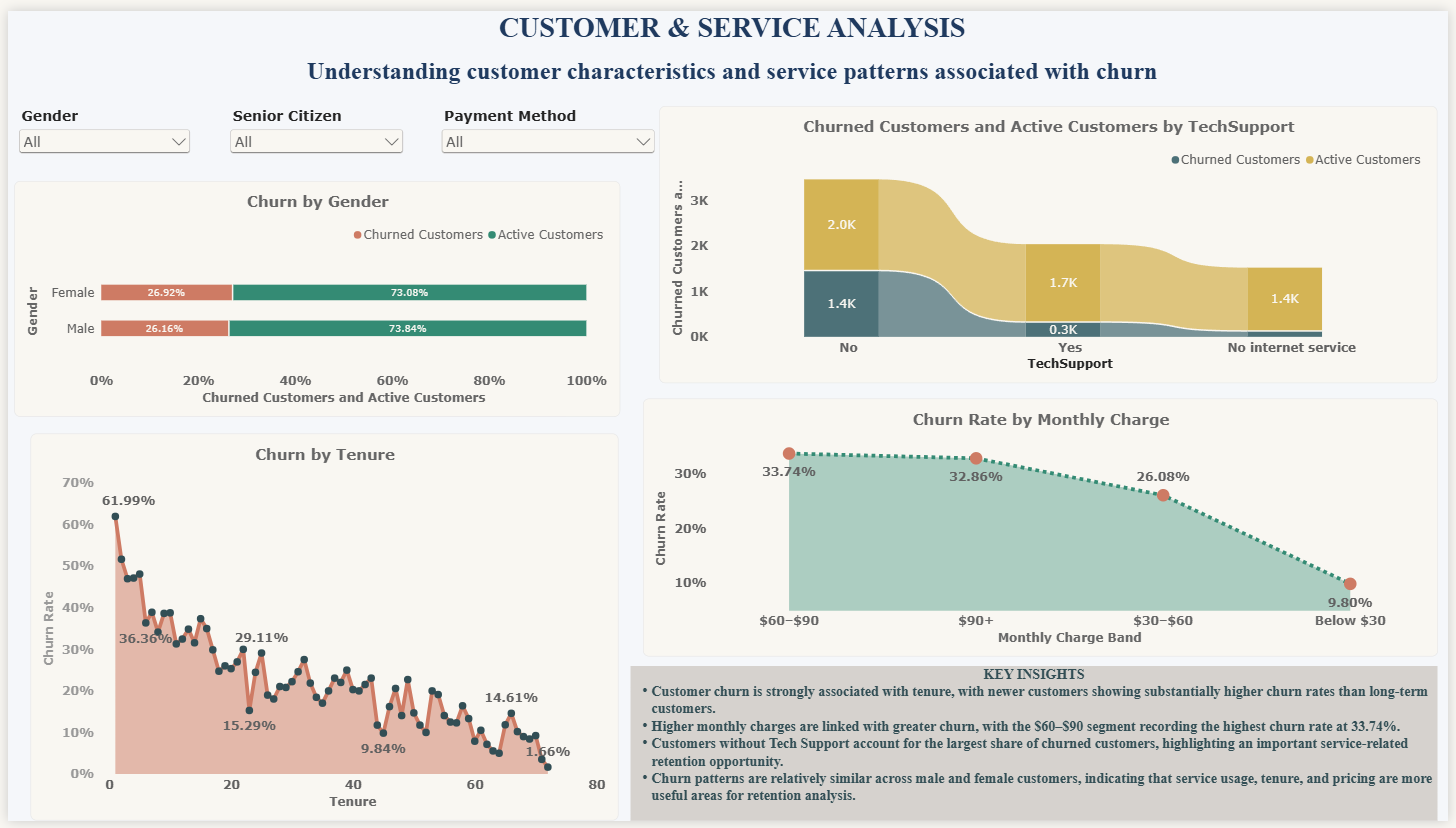

This screenshot's page, from the dashboard's own definition file:
{"tool":"powerbi","page":{"name":"Customer & Service Analysis","canvas":[1920,1080],"ordinal":1},"visuals":[{"type":"textbox","box":[9.3,0,1911.1,113.2],"z":0},{"type":"slicer","fields":{"Values":["Customer_Details.gender"]},"box":[10,128,238,74],"z":1000},{"type":"slicer","fields":{"Values":["Customer_Details.SeniorCitizen"]},"box":[292,128,240,74],"z":2000},{"type":"slicer","fields":{"Values":["Customer_Details.PaymentMethod"]},"box":[574,128,294,74],"z":3000},{"type":"hundredPercentStackedBarChart","title":"Churn by Gender","fields":{"Category":["Customer_Details.gender"],"Y":["Churn_Analysis.Churned Customers","Churn_Analysis.Active Customers"]},"box":[8,226,808,314],"z":4000},{"type":"lineChart","title":"Churn by Tenure","fields":{"Category":["Customer_Details.tenure"],"Y":["Churn_Analysis.Churn Rate"]},"box":[30,564,784,516],"z":5000},{"type":"ribbonChart","fields":{"Category":["Customer_Services.TechSupport"],"Y":["Churn_Analysis.Churned Customers","Churn_Analysis.Active Customers"]},"box":[868.6,127.3,1037.8,369.8],"z":6000},{"type":"areaChart","title":"Churn Rate by Monthly Charge","fields":{"Category":["Customer_Details.Monthly Charge Band"],"Y":["Churn_Analysis.Churn Rate"]},"box":[846,516,1060,344],"z":7000},{"type":"textbox","box":[830,874,1076,206],"z":8000}]}

Visuals, with their boxes in screenshot pixels (x1, y1, x2, y2), scaled from the page's 1920x1080 canvas onto the 1456x828 screenshot:
textbox: crop(7, 0, 1455, 87)
slicer - Customer_Details.gender: crop(8, 98, 188, 155)
slicer - Customer_Details.SeniorCitizen: crop(221, 98, 403, 155)
slicer - Customer_Details.PaymentMethod: crop(435, 98, 658, 155)
"Churn by Gender" hundredPercentStackedBarChart: crop(6, 173, 619, 414)
"Churn by Tenure" lineChart: crop(23, 432, 617, 827)
ribbonChart - Customer_Services.TechSupport x Churn_Analysis.Churned Customers: crop(659, 98, 1446, 381)
"Churn Rate by Monthly Charge" areaChart: crop(642, 396, 1445, 659)
textbox: crop(629, 670, 1445, 827)
